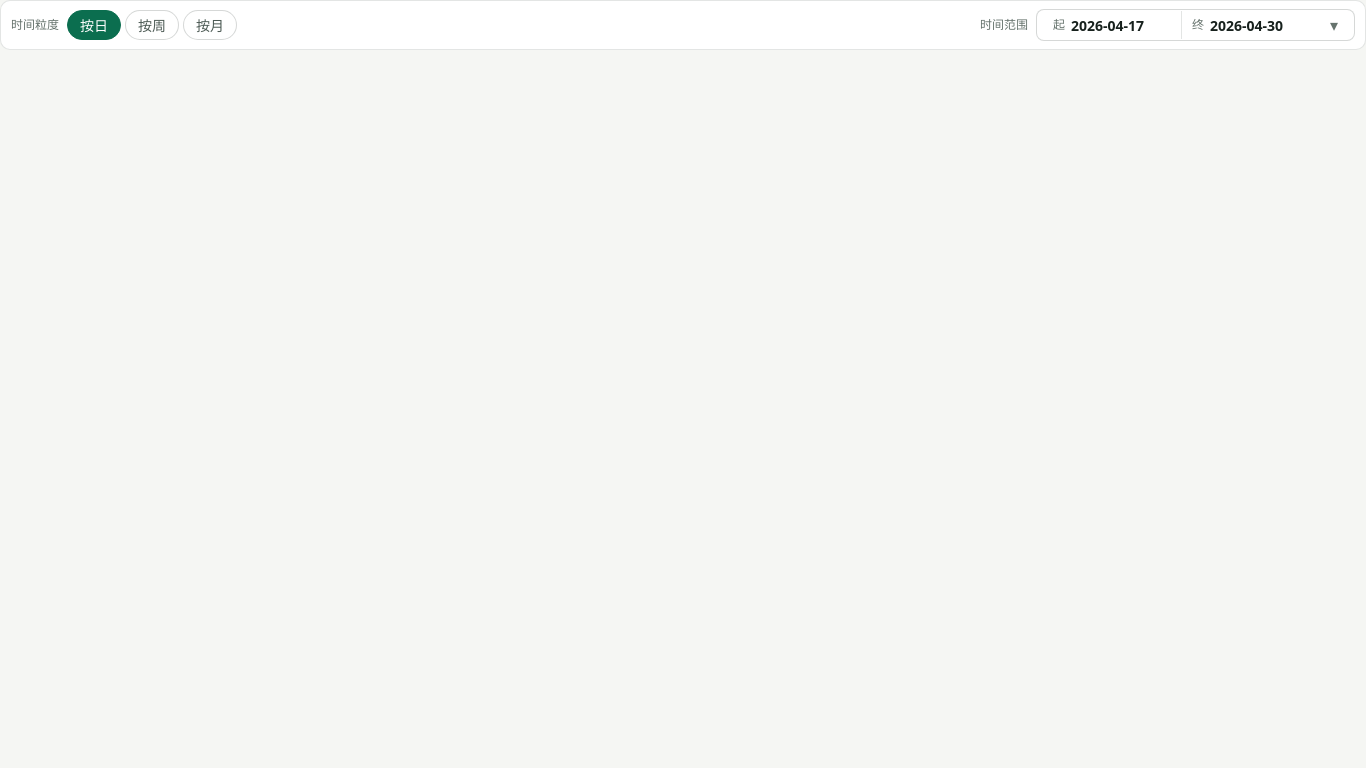
Test case: FilterBar date range picker › closes the date range popover when clicking outside the picker
Click the button with class "date-range-trigger". click: (1196, 25)
box: [1036, 9, 1355, 41]
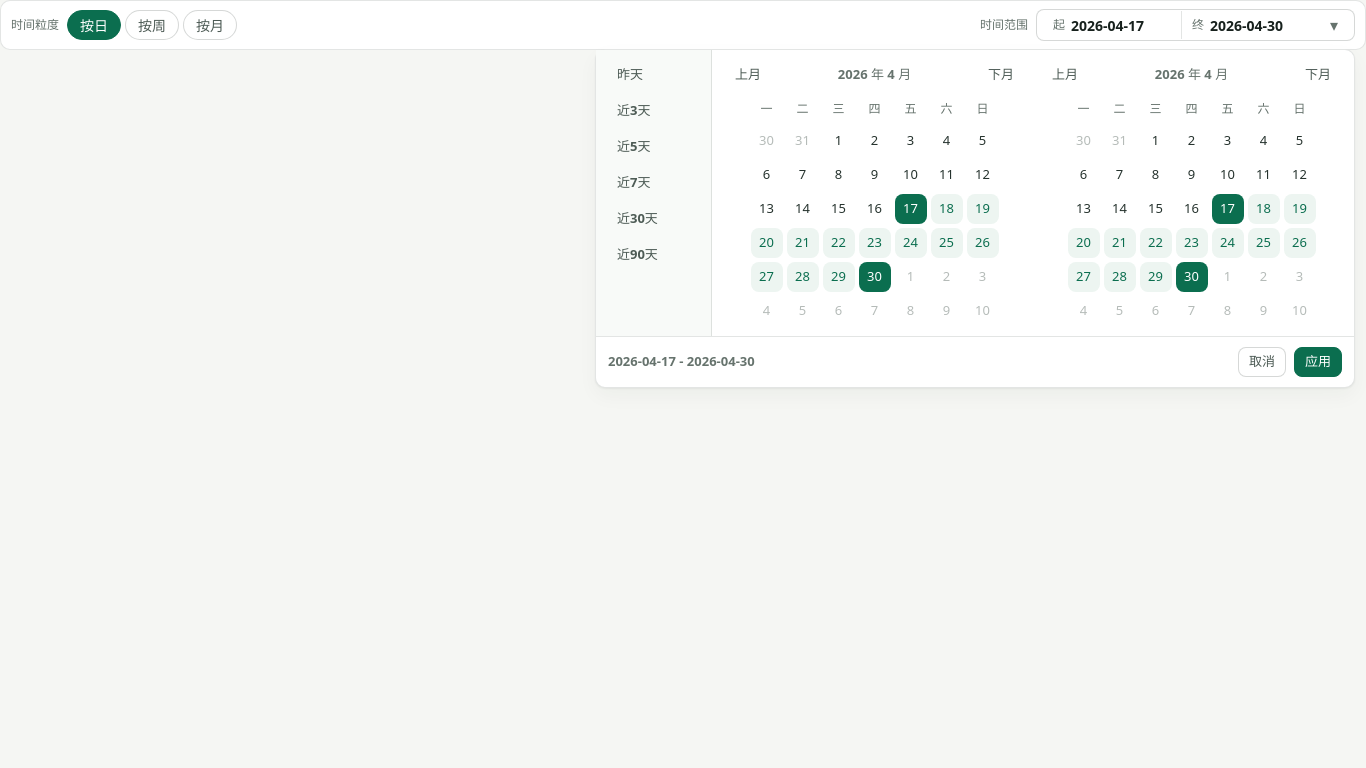
Result: the element with class "date-range-popover" is shown at [595, 49, 1355, 388]
Press the mouse on the element that starts with "时间粒度" at (683, 384), box [0, 0, 1365, 767]
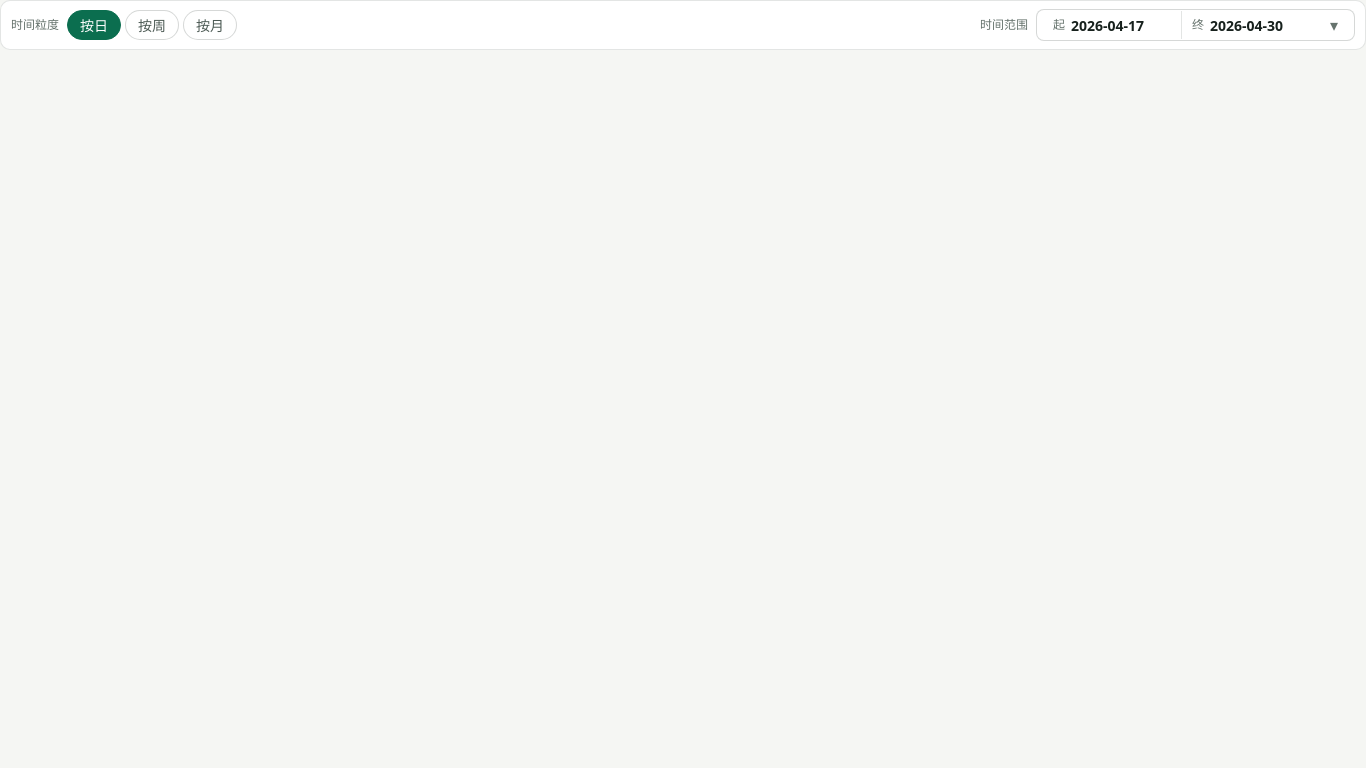
Result: the element with class "date-range-popover" is gone
